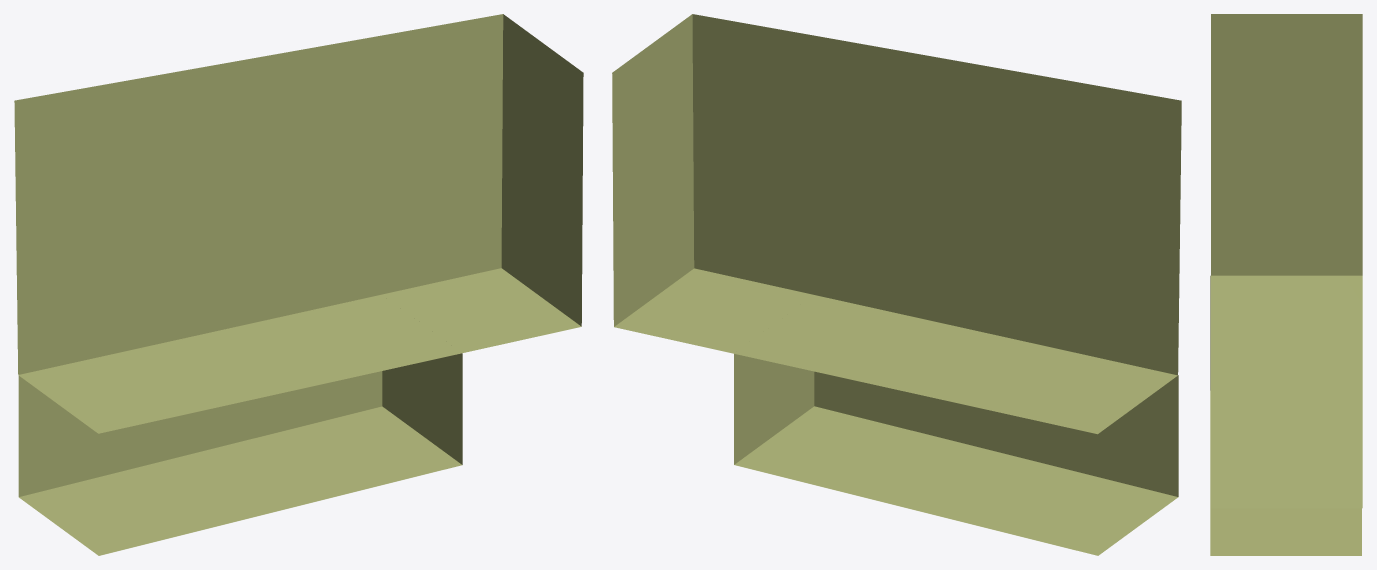
3 views of the same model, side by side, from view 1: azimuth 30°, elevation 25°; view 2: azimuth 150°, elevation 25°; view 3: azimuth 270°, elevation 25° (orthographic). The views are drawn at different scales.
Visible parts, largest first — view 1: 0_2_2_0_0_0_2_1_1; view 2: 0_2_2_0_0_0_2_1_1; view 3: 0_2_2_0_0_0_2_1_1.
Part boxes in pixels (x1=…): 0_2_2_0_0_0_2_1_1: x1=14, y1=14, x2=583, y2=555; 0_2_2_0_0_0_2_1_1: x1=612, y1=14, x2=1181, y2=555; 0_2_2_0_0_0_2_1_1: x1=1210, y1=14, x2=1362, y2=555.
Size of the model in its own units: 21.1 by 16.39 by 6.03.
